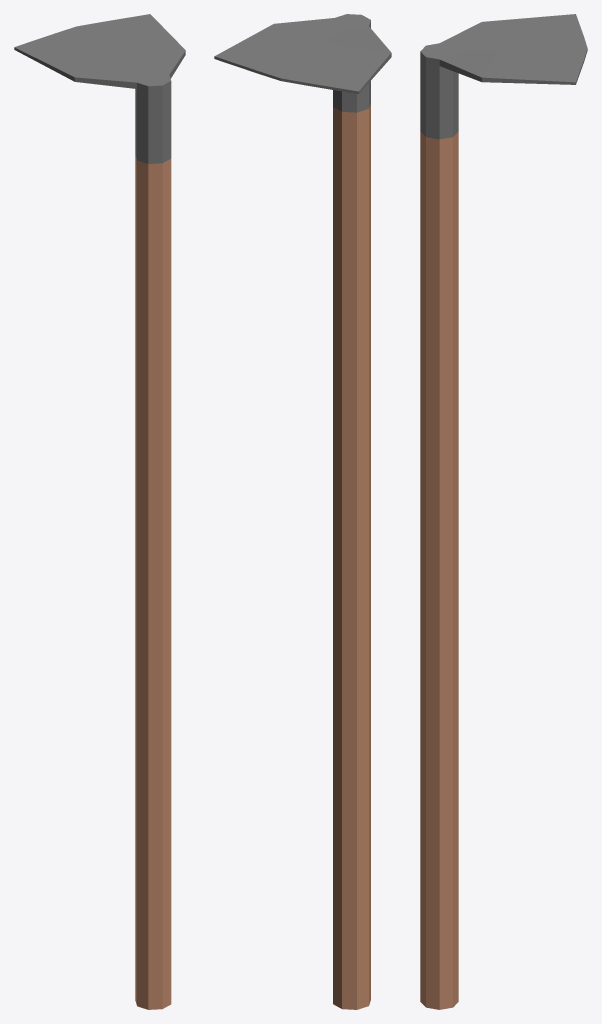
File: Hoe.fbx
The picture shows the model from 3 angles, left to right: view 1: azimuth 30°, elevation 25°; view 2: azimuth 150°, elevation 25°; view 3: azimuth 270°, elevation 25°; orthographic projection. The views are drawn at different scales.
Parts seen in each view (by area): view 1: Cube; view 2: Cube; view 3: Cube.
Boxes of the visible parts, x1,y1,x2,y2 form: Cube: (14, 14, 185, 1009); Cube: (214, 14, 391, 1009); Cube: (420, 14, 587, 1009).
Size of the model in its own units: 118 by 767 by 122.
